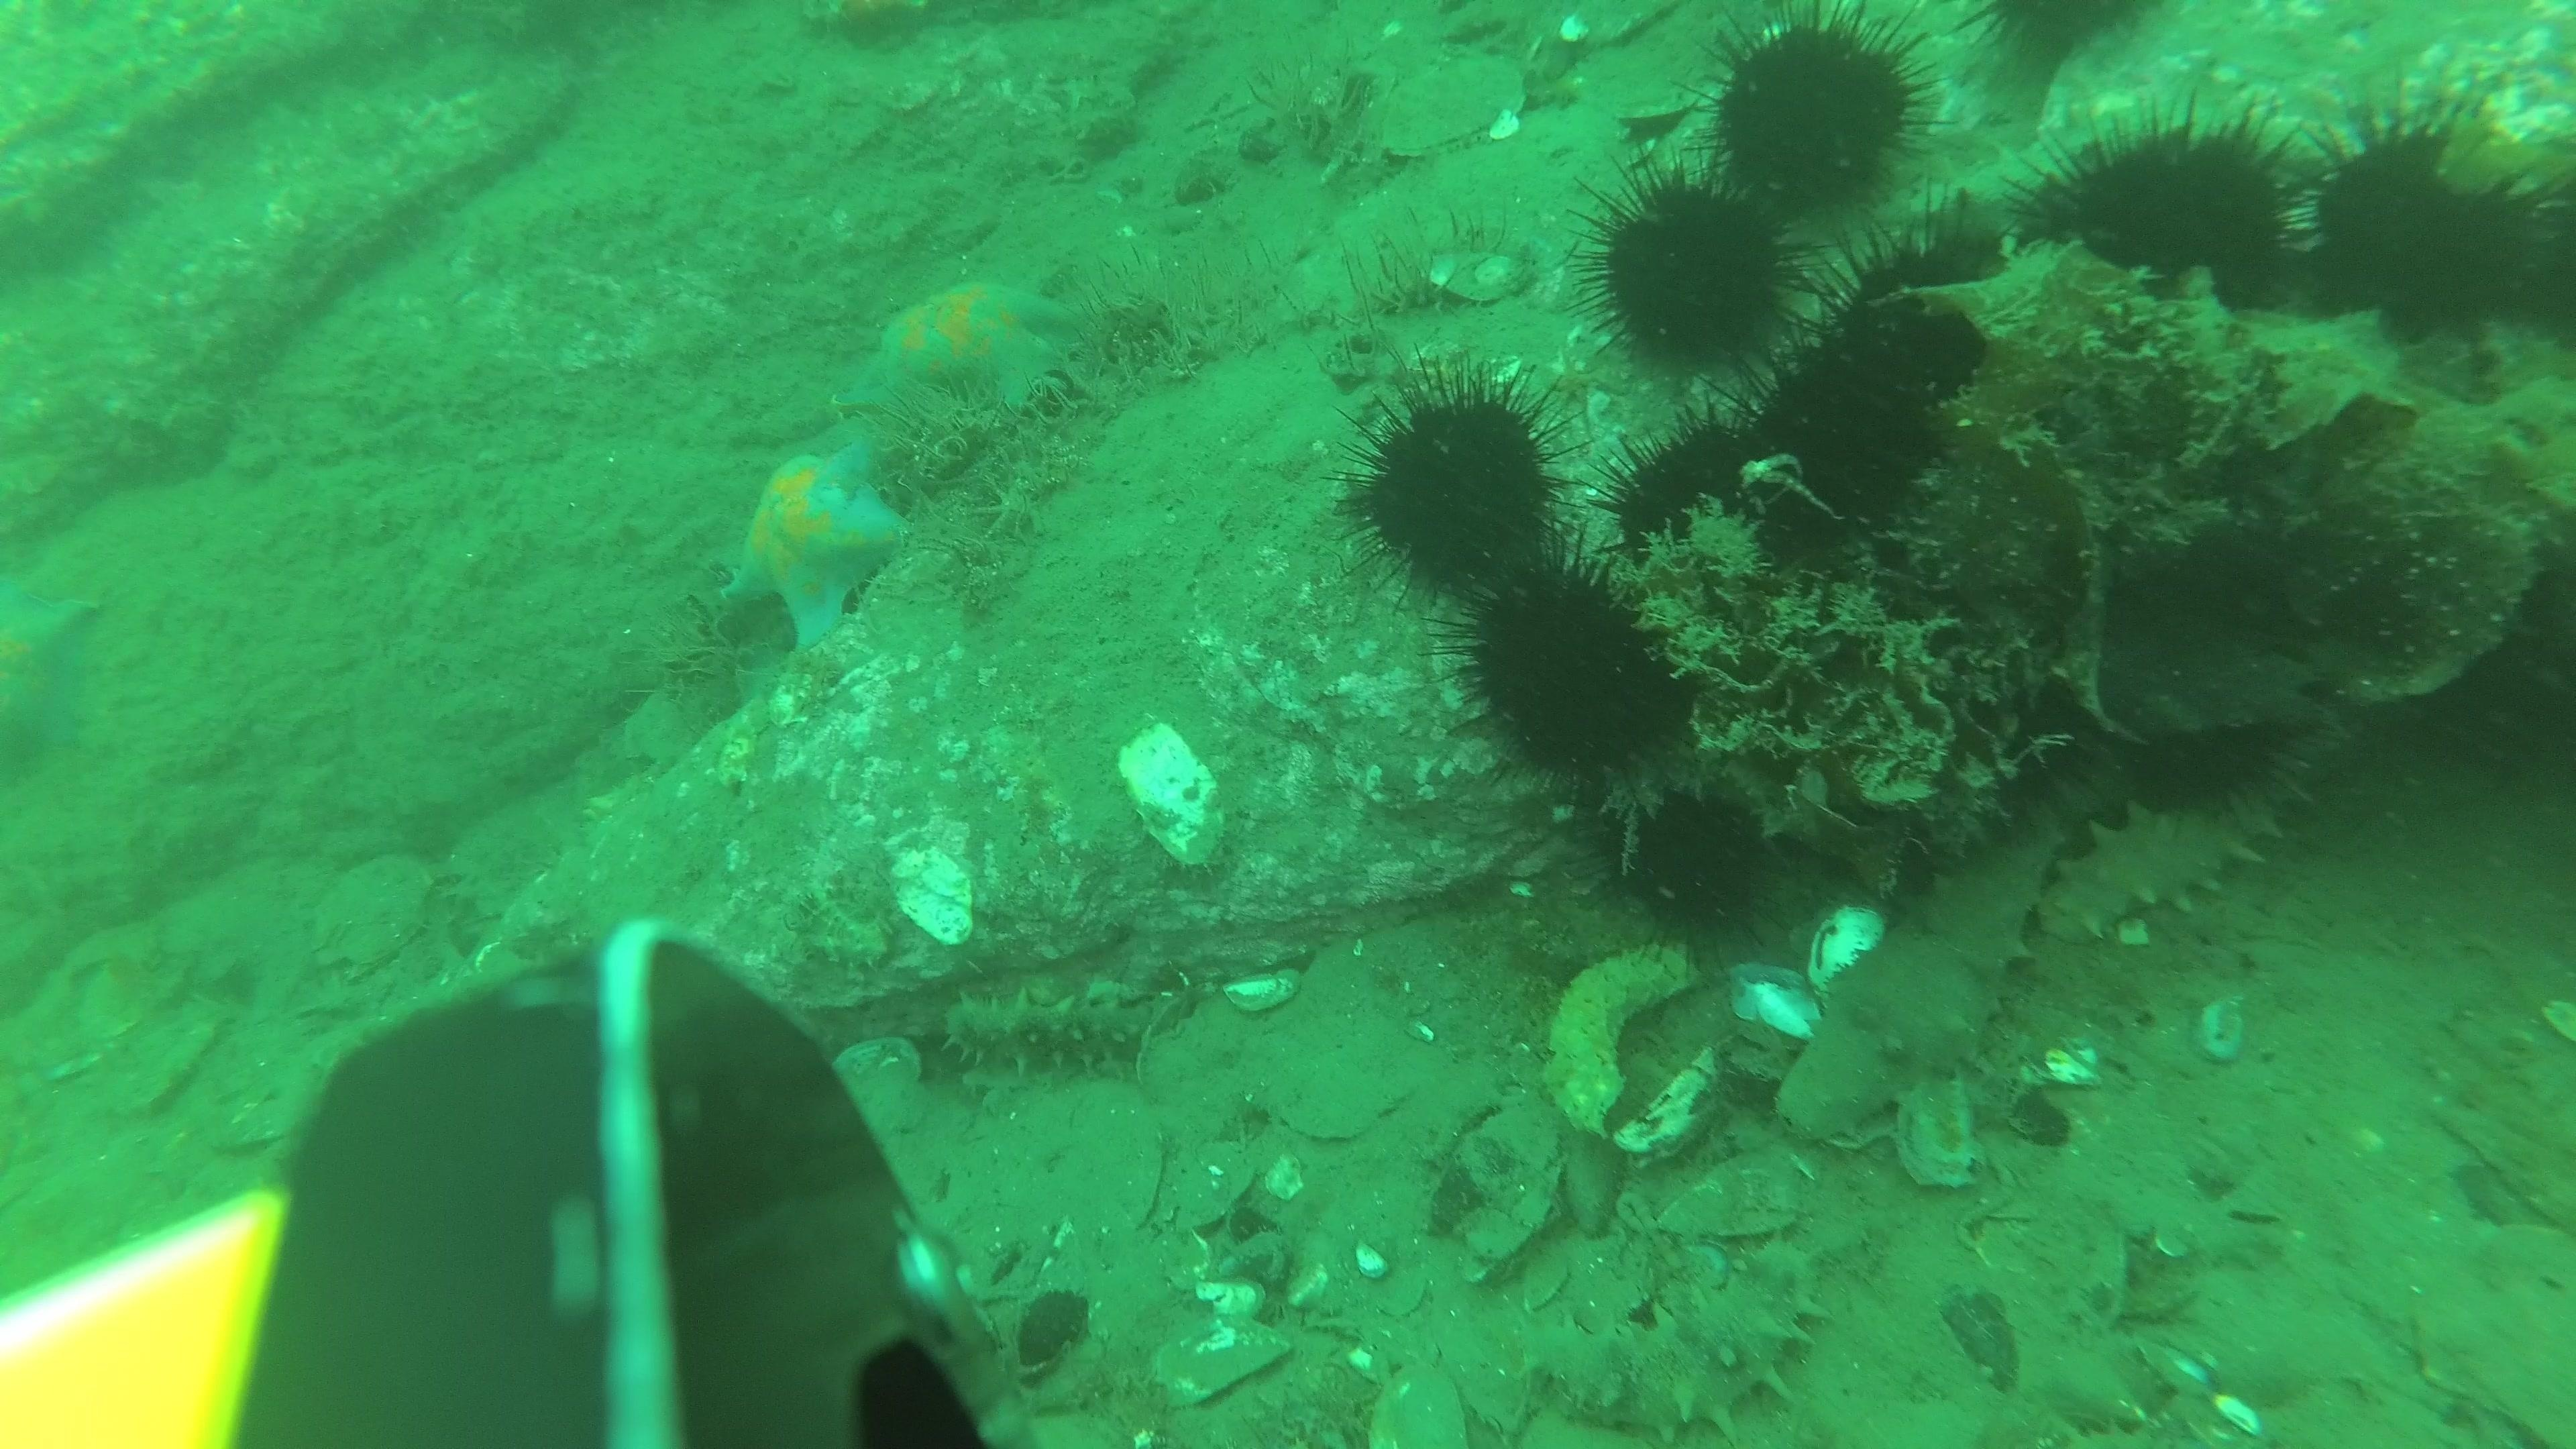echinus: (2005, 94, 2319, 326), (2288, 94, 2565, 349), (1440, 545, 1698, 786), (1334, 364, 1576, 600), (1690, 5, 1943, 228), (1573, 159, 1812, 386), (1799, 196, 2019, 410), (1732, 345, 1948, 557), (2093, 640, 2319, 821), (1598, 405, 1805, 598), (1886, 428, 2079, 623), (1603, 777, 1778, 945), (1824, 285, 1989, 409), (2123, 706, 2298, 819), (1964, 2, 2151, 87)
holothurian: (1771, 810, 2074, 1152), (2033, 731, 2332, 947), (1522, 1244, 1828, 1437), (939, 985, 1148, 1088)
scallop: (955, 1079, 1166, 1263), (2410, 1215, 2574, 1445), (9, 931, 211, 1092), (1261, 1012, 1421, 1145), (1371, 50, 1527, 163), (308, 855, 441, 980), (1654, 1146, 1813, 1249), (828, 1035, 936, 1143), (1369, 1362, 1468, 1449)
starfish: (722, 435, 911, 651), (844, 269, 1079, 425), (0, 571, 106, 773)
